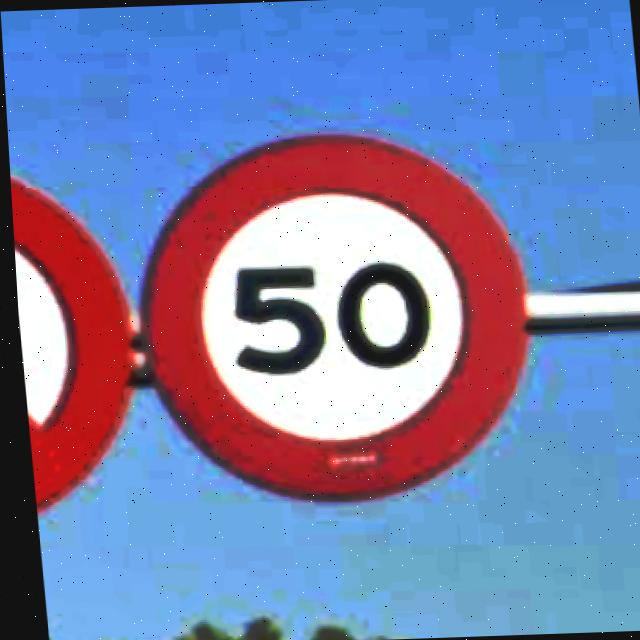max50: (119, 122, 538, 507)
